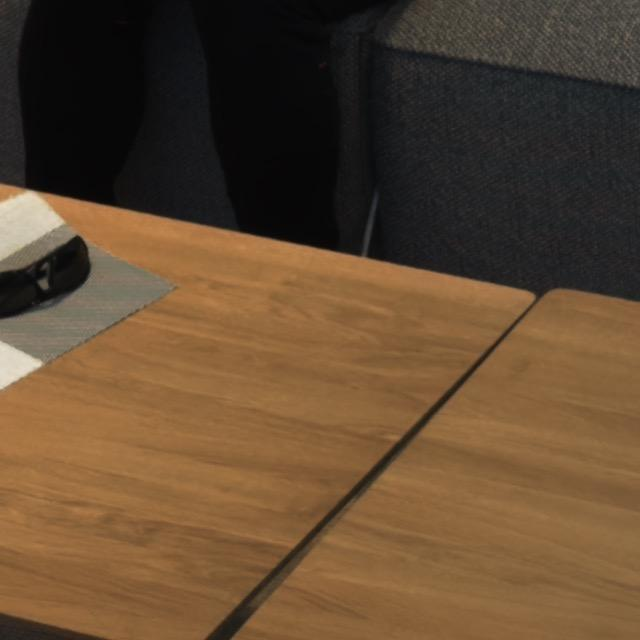Sunglasses: (2, 236, 93, 322)
